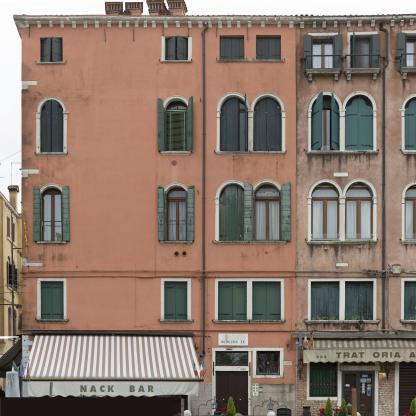Blind: (218, 183, 247, 241), (253, 95, 282, 151), (345, 94, 373, 150), (40, 99, 63, 152), (218, 281, 247, 320), (252, 281, 281, 320), (311, 281, 339, 320), (345, 281, 373, 320), (220, 97, 239, 151), (40, 281, 64, 319), (165, 281, 188, 320), (279, 181, 291, 241), (243, 182, 255, 241), (311, 91, 323, 150), (405, 97, 416, 150), (60, 186, 70, 242), (185, 185, 195, 241), (40, 38, 63, 62), (165, 36, 188, 60), (256, 38, 281, 60), (157, 98, 167, 152), (220, 38, 244, 60), (158, 185, 167, 241), (33, 186, 42, 241), (404, 281, 416, 320), (331, 92, 339, 150), (397, 33, 407, 72), (186, 96, 193, 151), (303, 34, 313, 72), (370, 34, 380, 69), (333, 34, 342, 72), (244, 93, 248, 151), (351, 32, 355, 70)
Building Outline: (13, 0, 416, 416)
Deco: (80, 385, 154, 393), (335, 352, 416, 358), (218, 334, 248, 346), (316, 356, 327, 359)
Door: (341, 370, 374, 416), (216, 371, 248, 416), (399, 363, 416, 416)
Facade: (22, 21, 416, 415)
Floor: (22, 174, 416, 262), (22, 86, 416, 174), (22, 262, 416, 336)
Floor Slab: (22, 81, 416, 86), (22, 169, 416, 174), (22, 257, 416, 262), (22, 331, 416, 336)
Ground Floor: (22, 336, 416, 416)
Sill: (344, 68, 381, 81), (305, 68, 342, 81), (214, 150, 287, 155), (305, 320, 380, 324), (213, 241, 287, 245), (213, 320, 286, 324), (306, 150, 379, 154), (306, 240, 378, 244), (215, 59, 286, 63), (400, 67, 416, 80), (159, 319, 193, 324), (36, 319, 69, 324), (159, 241, 194, 245), (35, 152, 69, 156), (159, 151, 192, 155), (36, 61, 67, 65), (36, 241, 67, 245), (159, 60, 193, 63), (400, 240, 416, 244), (401, 320, 416, 324), (402, 151, 416, 154)
Top Floor: (22, 24, 416, 86)
Window: (311, 182, 340, 240), (218, 183, 247, 241), (253, 183, 282, 241), (345, 181, 373, 239), (253, 95, 282, 151), (311, 95, 340, 150), (220, 95, 248, 151), (345, 94, 373, 150), (164, 185, 188, 241), (164, 98, 188, 151), (40, 186, 63, 241), (40, 99, 63, 152), (252, 281, 281, 320), (218, 281, 247, 320), (345, 281, 373, 320), (311, 281, 339, 320), (310, 363, 338, 397), (40, 281, 64, 319), (165, 281, 188, 320), (351, 35, 375, 68), (311, 36, 335, 68), (405, 184, 416, 239), (256, 35, 281, 59), (405, 97, 416, 150), (256, 351, 280, 375), (220, 36, 244, 60), (40, 38, 63, 62), (165, 36, 188, 60), (215, 351, 248, 366), (404, 281, 416, 320), (405, 33, 416, 67), (342, 363, 375, 365)
